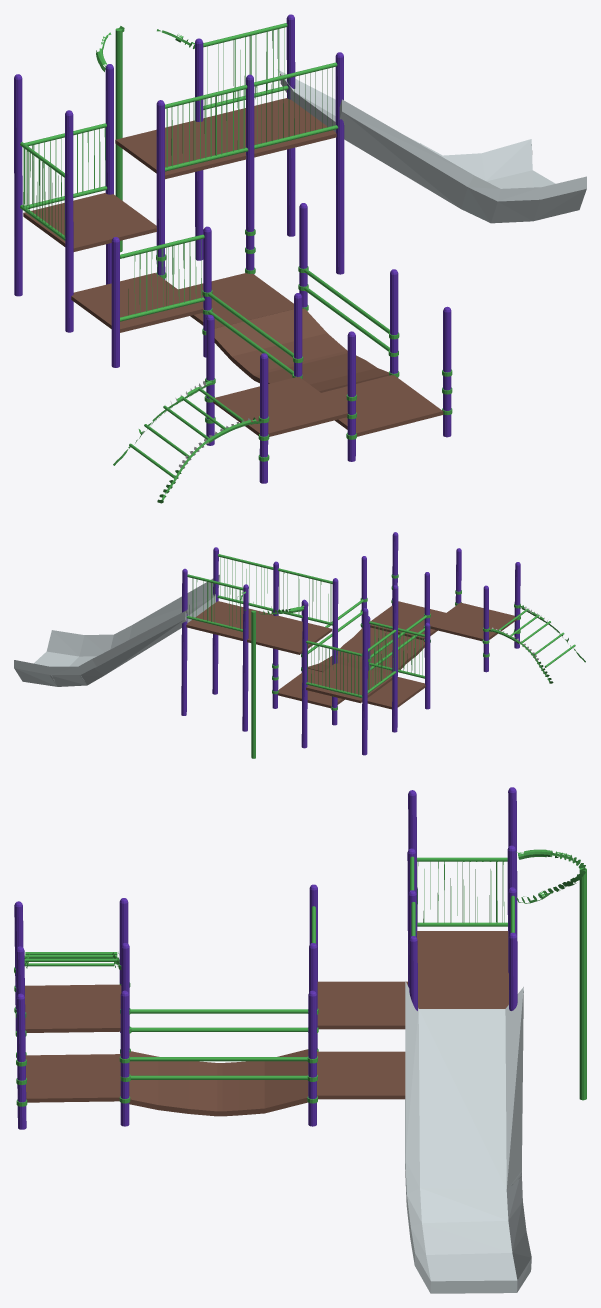
Rendered from play_structure.glb.
The picture shows the model from 3 angles, top to bottom: view 1: azimuth 30°, elevation 25°; view 2: azimuth 150°, elevation 25°; view 3: azimuth 270°, elevation 25°; orthographic projection. The views are drawn at different scales.
Parts seen in each view (by area): view 1: group905881478, group871030222, group1613961528, group1226028820, group1908301317, group1811744593, group299249815, group2011796231, group632006999, group267854177, group1459119480, group1445582639 (+21 smaller); view 2: group905881478, group871030222, group1613961528, group1226028820, group1908301317, group299249815, group859758212, group1811744593, group267854177, group1180122693, group2011796231, group182100783 (+19 smaller); view 3: group905881478, group1613961528, group871030222, group1226028820, group299249815, group1811744593, group2011796231, group1487250920, group1787619521, group1499783986, group1518409211, group1733822416 (+8 smaller).
Part boxes in pixels (left/top/right/bottom): group905881478: left=277, top=69, right=586, bottom=223; group871030222: left=115, top=98, right=336, bottom=179; group1613961528: left=214, top=308, right=388, bottom=392; group1226028820: left=213, top=377, right=347, bottom=436; group1908301317: left=23, top=193, right=156, bottom=251; group1811744593: left=71, top=273, right=203, bottom=332; group299249815: left=321, top=375, right=443, bottom=436; group2011796231: left=178, top=273, right=293, bottom=328; group632006999: left=165, top=85, right=248, bottom=171; group267854177: left=120, top=234, right=204, bottom=321; group1459119480: left=65, top=110, right=73, bottom=332; group1445582639: left=14, top=74, right=22, bottom=296; group905881478: left=14, top=574, right=219, bottom=686; group871030222: left=186, top=601, right=331, bottom=654; group1613961528: left=308, top=627, right=424, bottom=674; group1226028820: left=430, top=602, right=516, bottom=641; group1908301317: left=306, top=663, right=392, bottom=703; group299249815: left=370, top=601, right=445, bottom=640; group859758212: left=306, top=640, right=362, bottom=697; group1811744593: left=367, top=670, right=425, bottom=709; group267854177: left=369, top=621, right=424, bottom=678; group1180122693: left=186, top=574, right=243, bottom=631; group2011796231: left=277, top=668, right=344, bottom=708; group182100783: left=242, top=584, right=248, bottom=731; group905881478: left=405, top=981, right=531, bottom=1293; group1613961528: left=129, top=1049, right=308, bottom=1116; group871030222: left=416, top=931, right=508, bottom=1008; group1226028820: left=25, top=984, right=121, bottom=1032; group299249815: left=25, top=1054, right=120, bottom=1102; group1811744593: left=317, top=981, right=407, bottom=1029; group2011796231: left=317, top=1051, right=405, bottom=1099; group1487250920: left=417, top=857, right=507, bottom=926; group1787619521: left=579, top=867, right=586, bottom=1100; group1499783986: left=120, top=990, right=129, bottom=1126; group1518409211: left=16, top=993, right=26, bottom=1129; group1733822416: left=308, top=990, right=316, bottom=1126.
Size of the model in its own units: 6.94 by 2.51 by 5.35.
